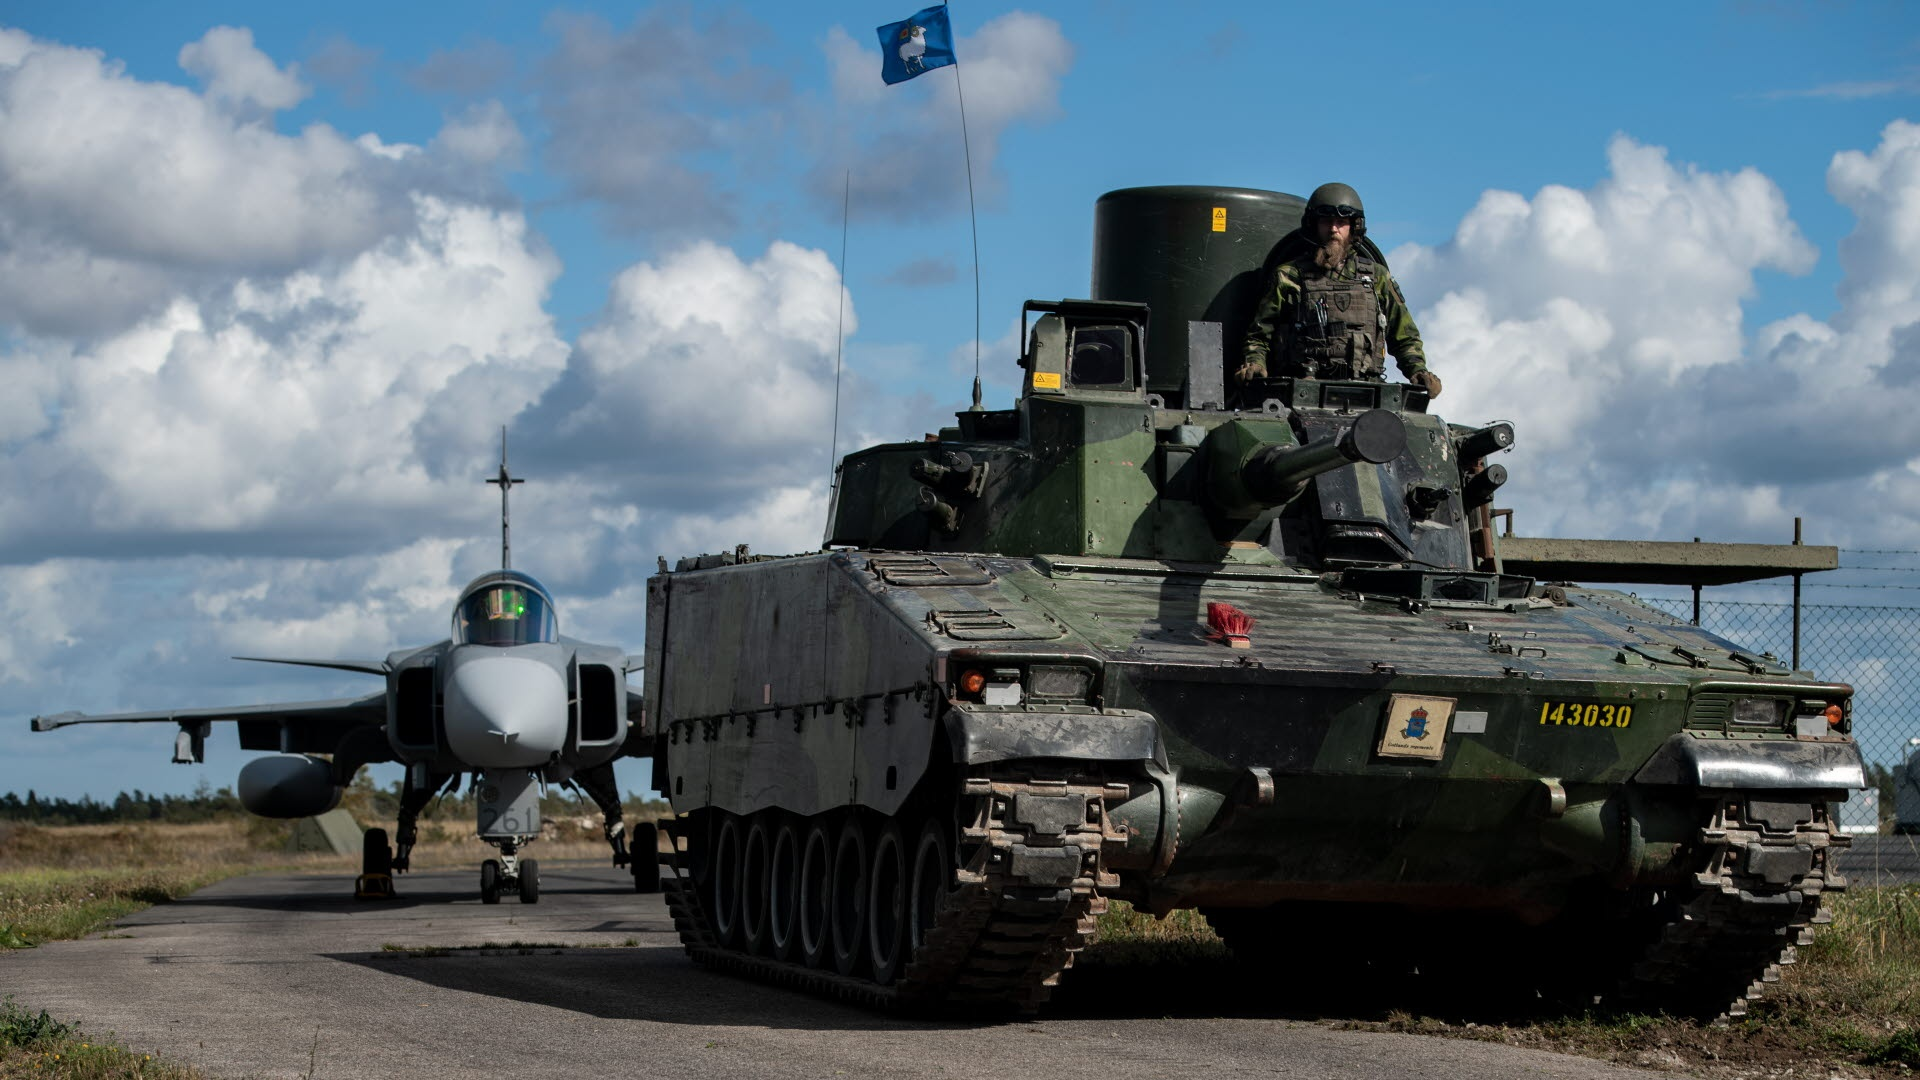JAS39: (30, 423, 659, 905)
